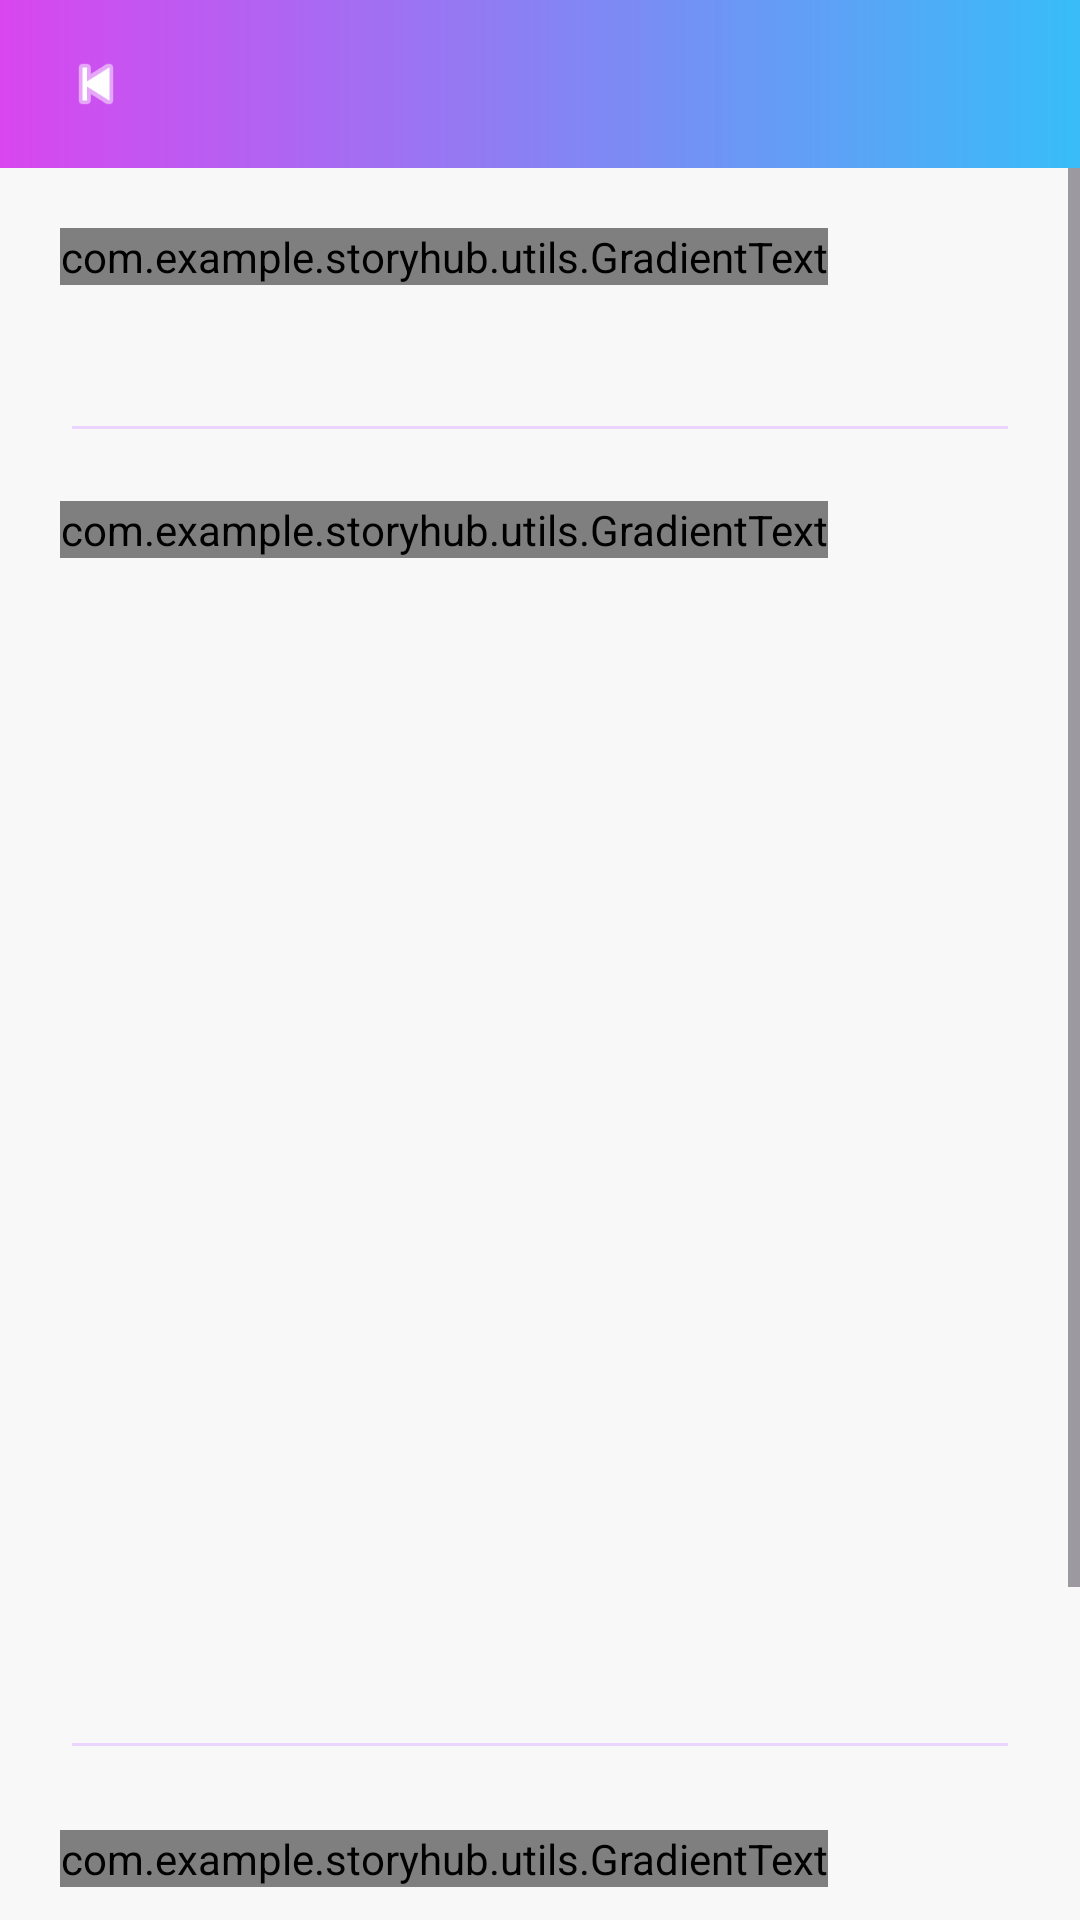

Icon bounding boxes for this 1080px x 1920px phone screenshot, format bbox=(x1, y1, x2, y2):
previous: bbox=(79, 64, 113, 104)
